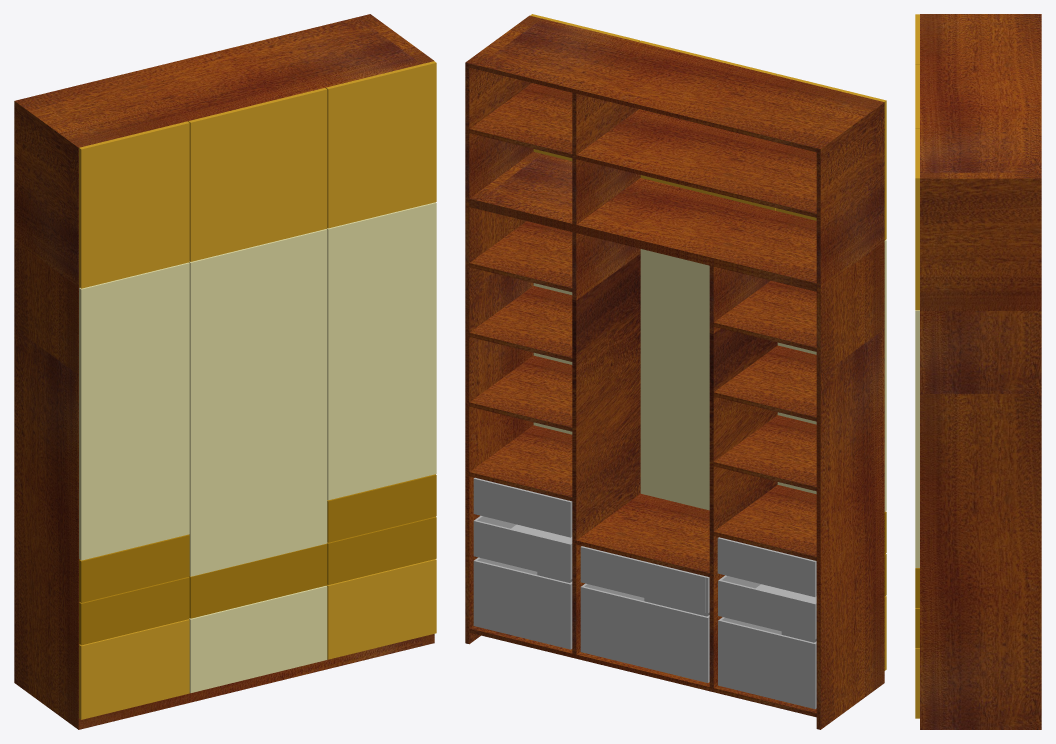
3 views of the same model, side by side, from view 1: azimuth 30°, elevation 25°; view 2: azimuth 150°, elevation 25°; view 3: azimuth 270°, elevation 25° (orthographic). The views are drawn at different scales.
Parts seen in each view (by area): view 1: mesh41_mesh41-geometry, mesh43_mesh43-geometry, mesh53_mesh53-geometry, mesh3_mesh3-geometry, mesh5_mesh5-geometry, mesh55_mesh55-geometry, mesh37_mesh37-geometry, mesh33_mesh33-geometry, mesh35_mesh35-geometry, mesh45_mesh45-geometry, mesh39_mesh39-geometry, mesh9_mesh9-geometry; view 2: mesh5_mesh5-geometry, mesh3_mesh3-geometry, mesh1_mesh1-geometry, mesh7_mesh7-geometry, mesh43_mesh43-geometry, mesh45_mesh45-geometry, mesh51_mesh51-geometry, mesh19_mesh19-geometry, mesh13_mesh13-geometry, mesh27_mesh27-geometry, mesh11_mesh11-geometry, mesh49_mesh49-geometry (+9 smaller); view 3: mesh3_mesh3-geometry, mesh5_mesh5-geometry, mesh45_mesh45-geometry, mesh41_mesh41-geometry, mesh53_mesh53-geometry, mesh37_mesh37-geometry, mesh33_mesh33-geometry, mesh55_mesh55-geometry.
Part boxes in pixels (x1,y1,x2,y2): mesh41_mesh41-geometry: (79, 202, 436, 560); mesh43_mesh43-geometry: (189, 229, 327, 576); mesh53_mesh53-geometry: (79, 61, 436, 288); mesh3_mesh3-geometry: (14, 241, 434, 729); mesh5_mesh5-geometry: (19, 15, 429, 146); mesh55_mesh55-geometry: (188, 88, 327, 261); mesh37_mesh37-geometry: (79, 474, 436, 645); mesh33_mesh33-geometry: (79, 559, 436, 719); mesh35_mesh35-geometry: (189, 585, 327, 692); mesh45_mesh45-geometry: (14, 14, 433, 287); mesh39_mesh39-geometry: (189, 543, 327, 618); mesh9_mesh9-geometry: (82, 635, 430, 728); mesh5_mesh5-geometry: (469, 16, 880, 717); mesh3_mesh3-geometry: (465, 202, 884, 729); mesh1_mesh1-geometry: (469, 221, 816, 560); mesh7_mesh7-geometry: (572, 232, 777, 687); mesh43_mesh43-geometry: (640, 249, 709, 510); mesh45_mesh45-geometry: (465, 15, 884, 288); mesh51_mesh51-geometry: (576, 109, 816, 217); mesh19_mesh19-geometry: (475, 478, 813, 638); mesh13_mesh13-geometry: (475, 560, 816, 708); mesh27_mesh27-geometry: (582, 586, 709, 682); mesh11_mesh11-geometry: (576, 493, 709, 576); mesh49_mesh49-geometry: (469, 83, 572, 157); mesh3_mesh3-geometry: (920, 311, 1041, 729); mesh5_mesh5-geometry: (920, 16, 1041, 176); mesh45_mesh45-geometry: (920, 14, 1041, 310); mesh41_mesh41-geometry: (915, 310, 919, 567); mesh53_mesh53-geometry: (915, 14, 919, 310); mesh37_mesh37-geometry: (915, 568, 919, 648); mesh33_mesh33-geometry: (915, 648, 919, 718); mesh55_mesh55-geometry: (915, 64, 919, 128).
Size of the model in its own units: 0.531 by 0.8297 by 0.1719.
